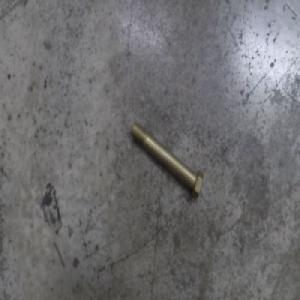Bolt: (130, 118, 204, 200)
